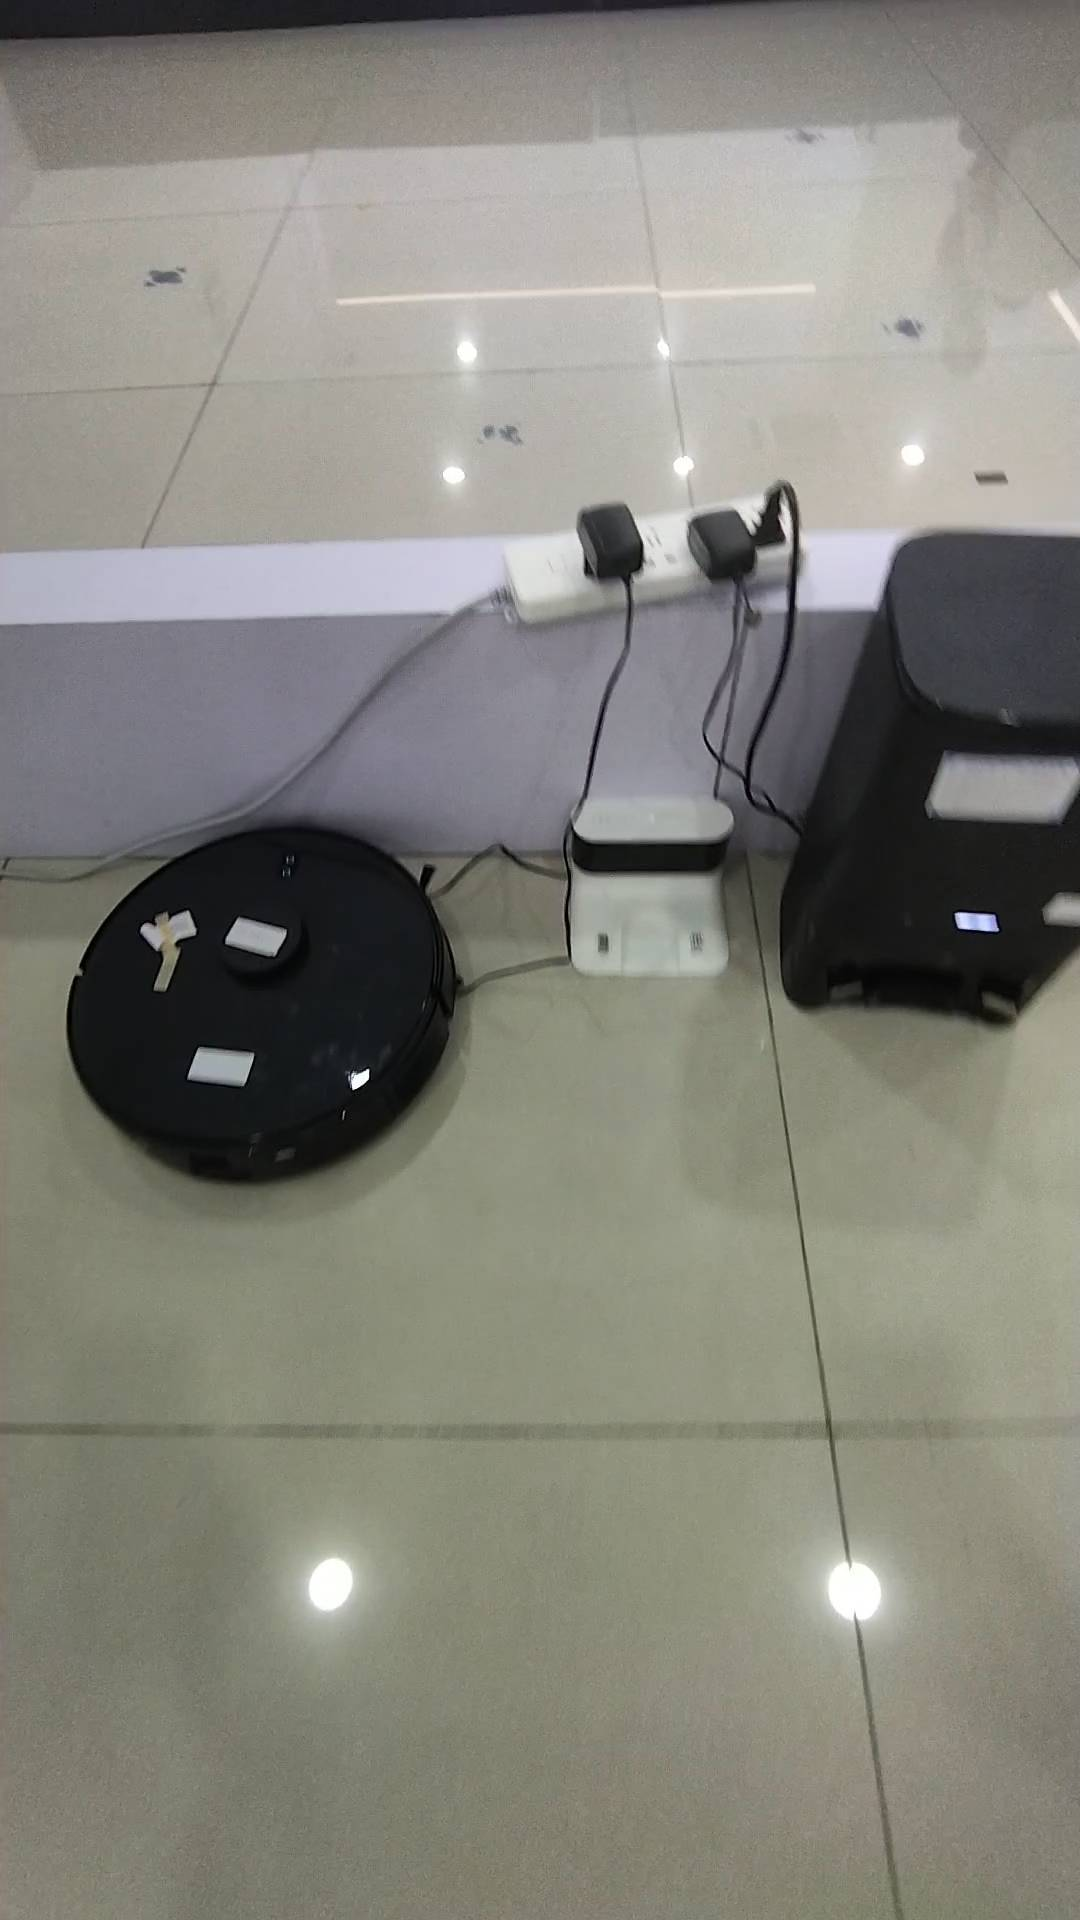dust collecting barrel: (783, 527, 1080, 1034)
recharge seat: (566, 798, 742, 982)
